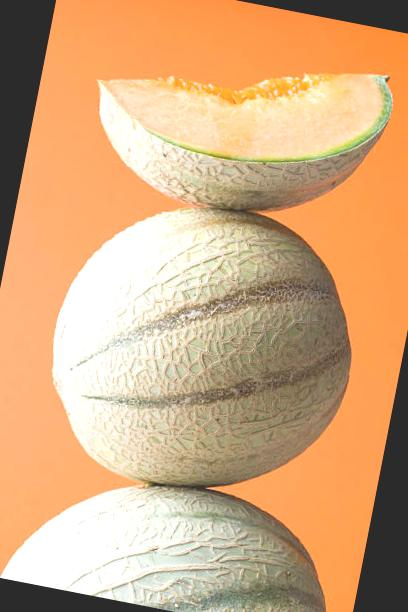Melon Ripe: (30, 181, 377, 518), (77, 20, 399, 236)
